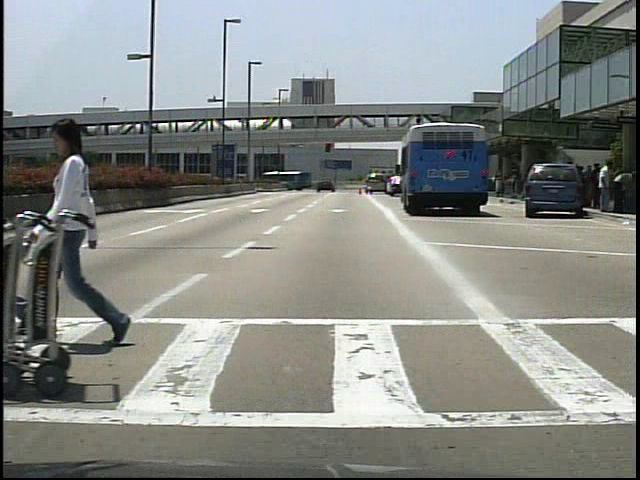person: (47, 111, 133, 353), (598, 160, 618, 213), (588, 162, 604, 213)
